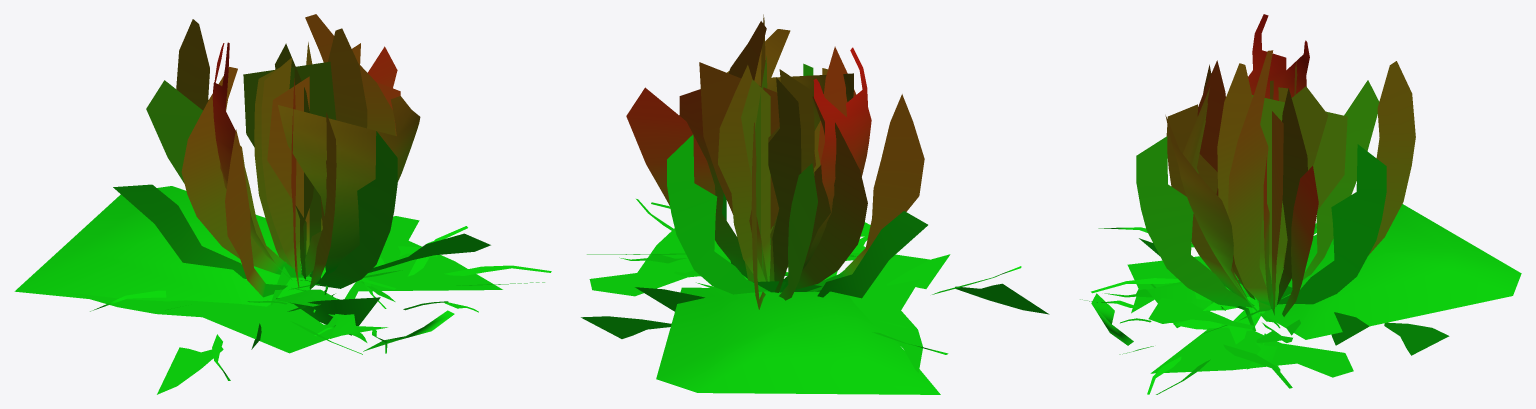
File: Dead Shrubs_LOD0_Var3_vdknafgha.fbx
3 renders of one model, left to right at view 1: azimuth 30°, elevation 25°; view 2: azimuth 150°, elevation 25°; view 3: azimuth 270°, elevation 25°, orthographic. The views are drawn at different scales.
Parts seen in each view (by area): view 1: _rngw_Var3_LOD0; view 2: _rngw_Var3_LOD0; view 3: _rngw_Var3_LOD0.
Part boxes in pixels (left/top/right/bottom): _rngw_Var3_LOD0: left=14, top=14, right=551, bottom=394; _rngw_Var3_LOD0: left=581, top=14, right=1049, bottom=394; _rngw_Var3_LOD0: left=1080, top=14, right=1521, bottom=394.
Size of the model in its own units: 74.33 by 48.38 by 68.79.
